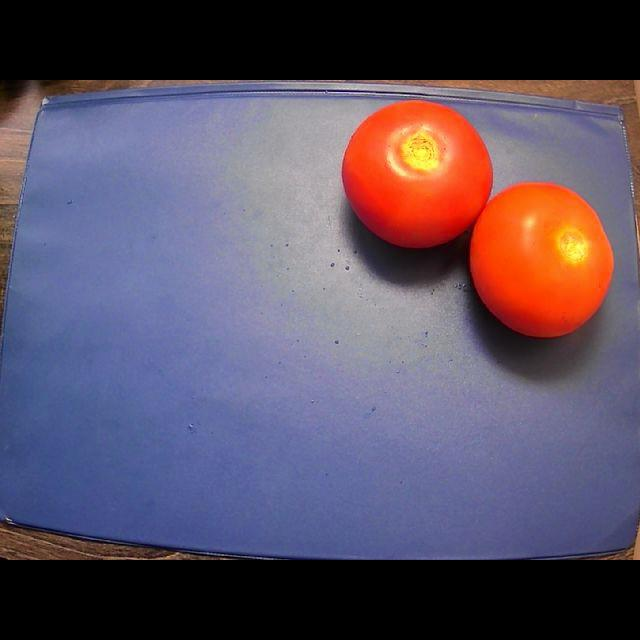tomate: (471, 183, 613, 337), (343, 101, 492, 247)
